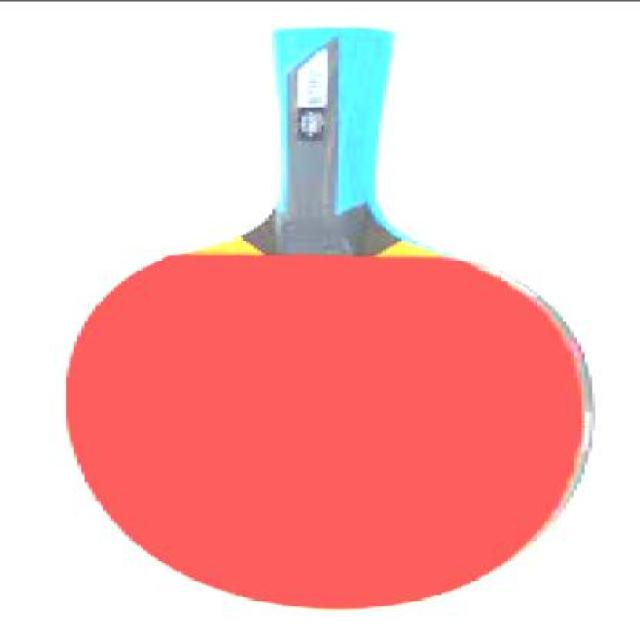table_tennis_racket: (63, 23, 595, 611)
